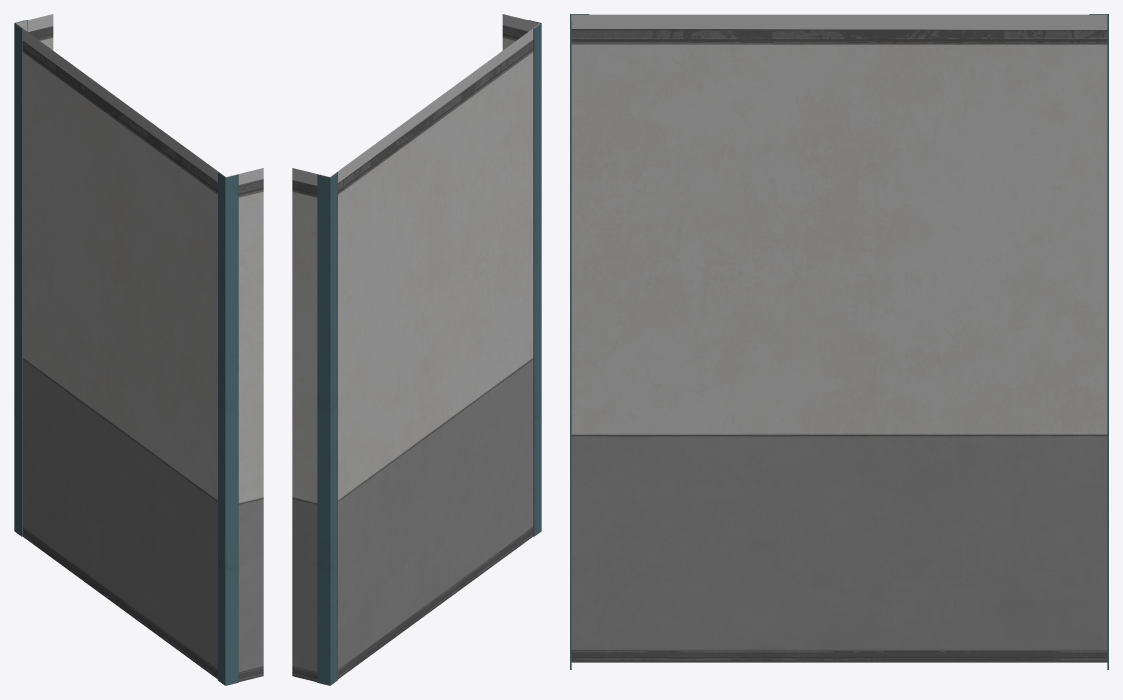
Rendered from HH_Hospital_Corridor_Column_02.fbx.
3 renders of one model, left to right at view 1: azimuth 30°, elevation 25°; view 2: azimuth 150°, elevation 25°; view 3: azimuth 270°, elevation 25°, orthographic. The views are drawn at different scales.
Parts seen in each view (by area): view 1: HH_Hospital_Corridor_Column_02; view 2: HH_Hospital_Corridor_Column_02; view 3: HH_Hospital_Corridor_Column_02.
Part boxes in pixels (x1,y1,x2,y2): HH_Hospital_Corridor_Column_02: [14, 14, 263, 685]; HH_Hospital_Corridor_Column_02: [292, 14, 541, 685]; HH_Hospital_Corridor_Column_02: [570, 14, 1108, 669].
Bounding box in the file's own units: 31.91 × 400 × 301.
